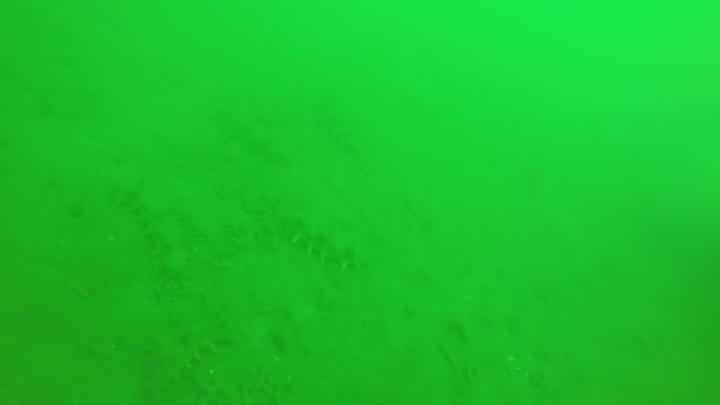holothurian: (110, 181, 201, 285), (136, 315, 235, 405), (277, 211, 364, 266), (217, 114, 295, 171), (312, 109, 368, 156)
